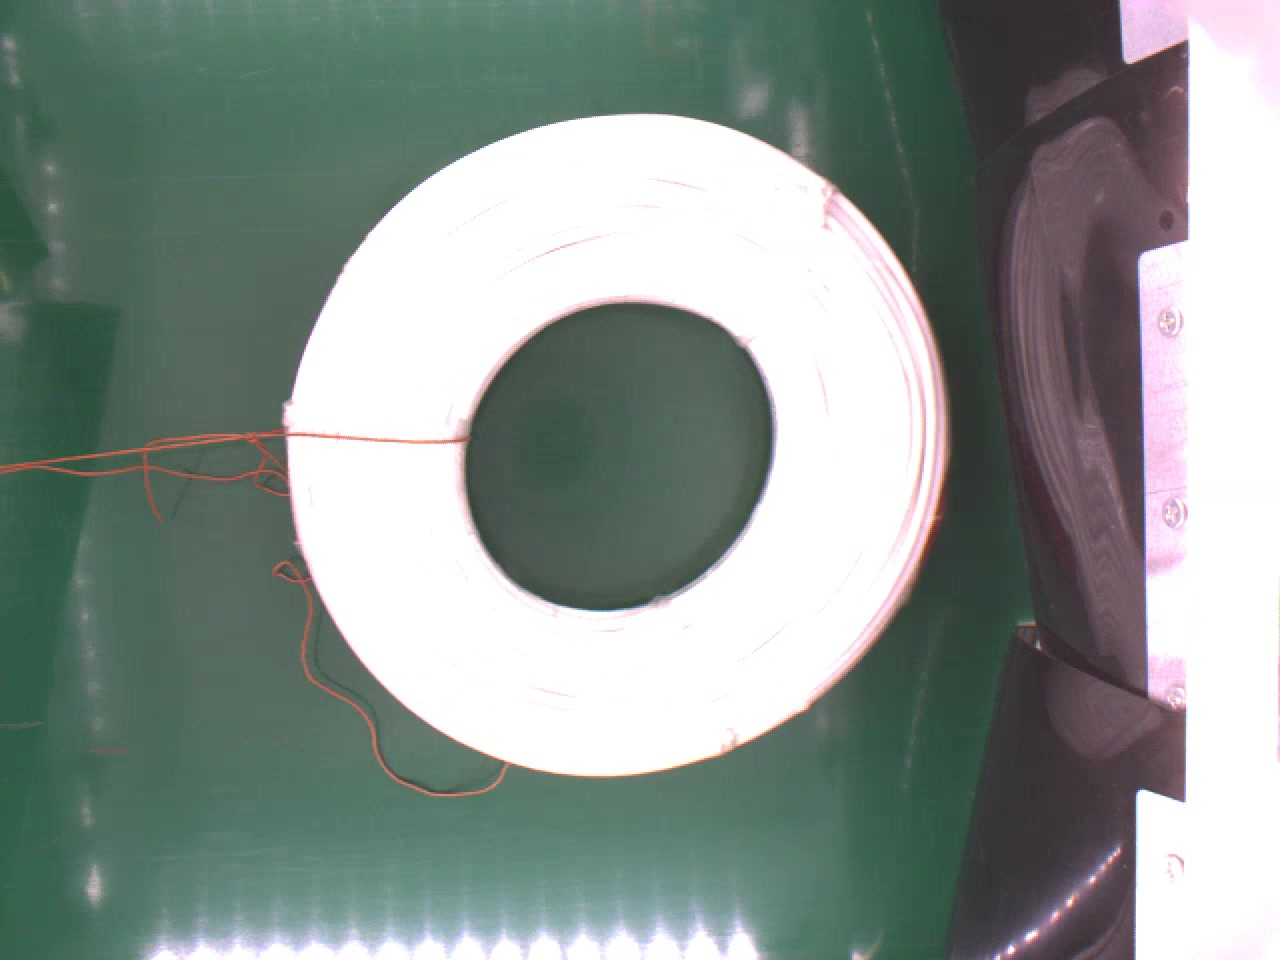white: (284, 103, 953, 774)
